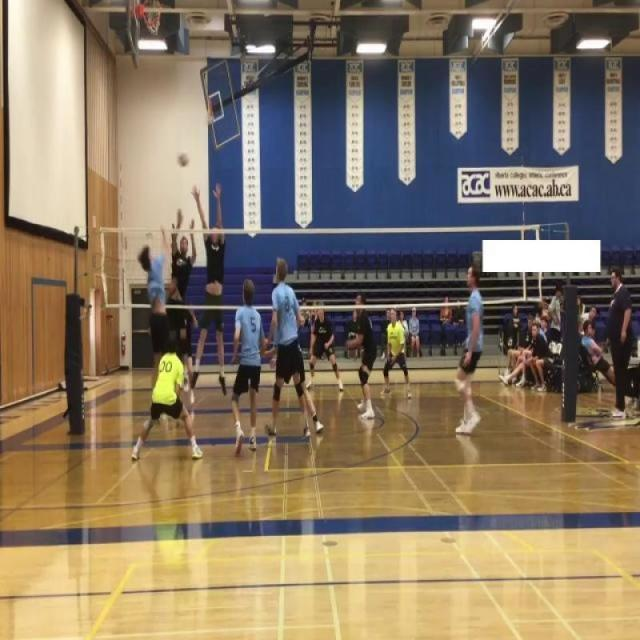volleyball: (176, 149, 190, 168)
